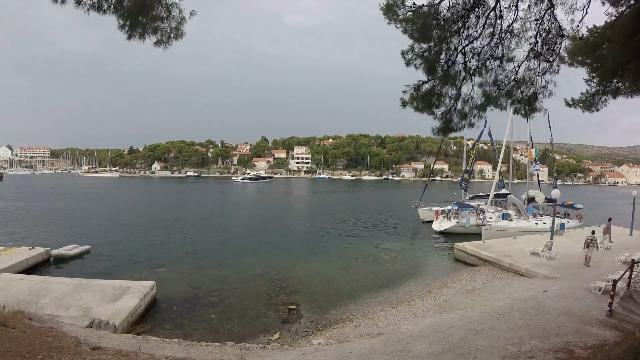speedboat: (230, 165, 278, 185)
